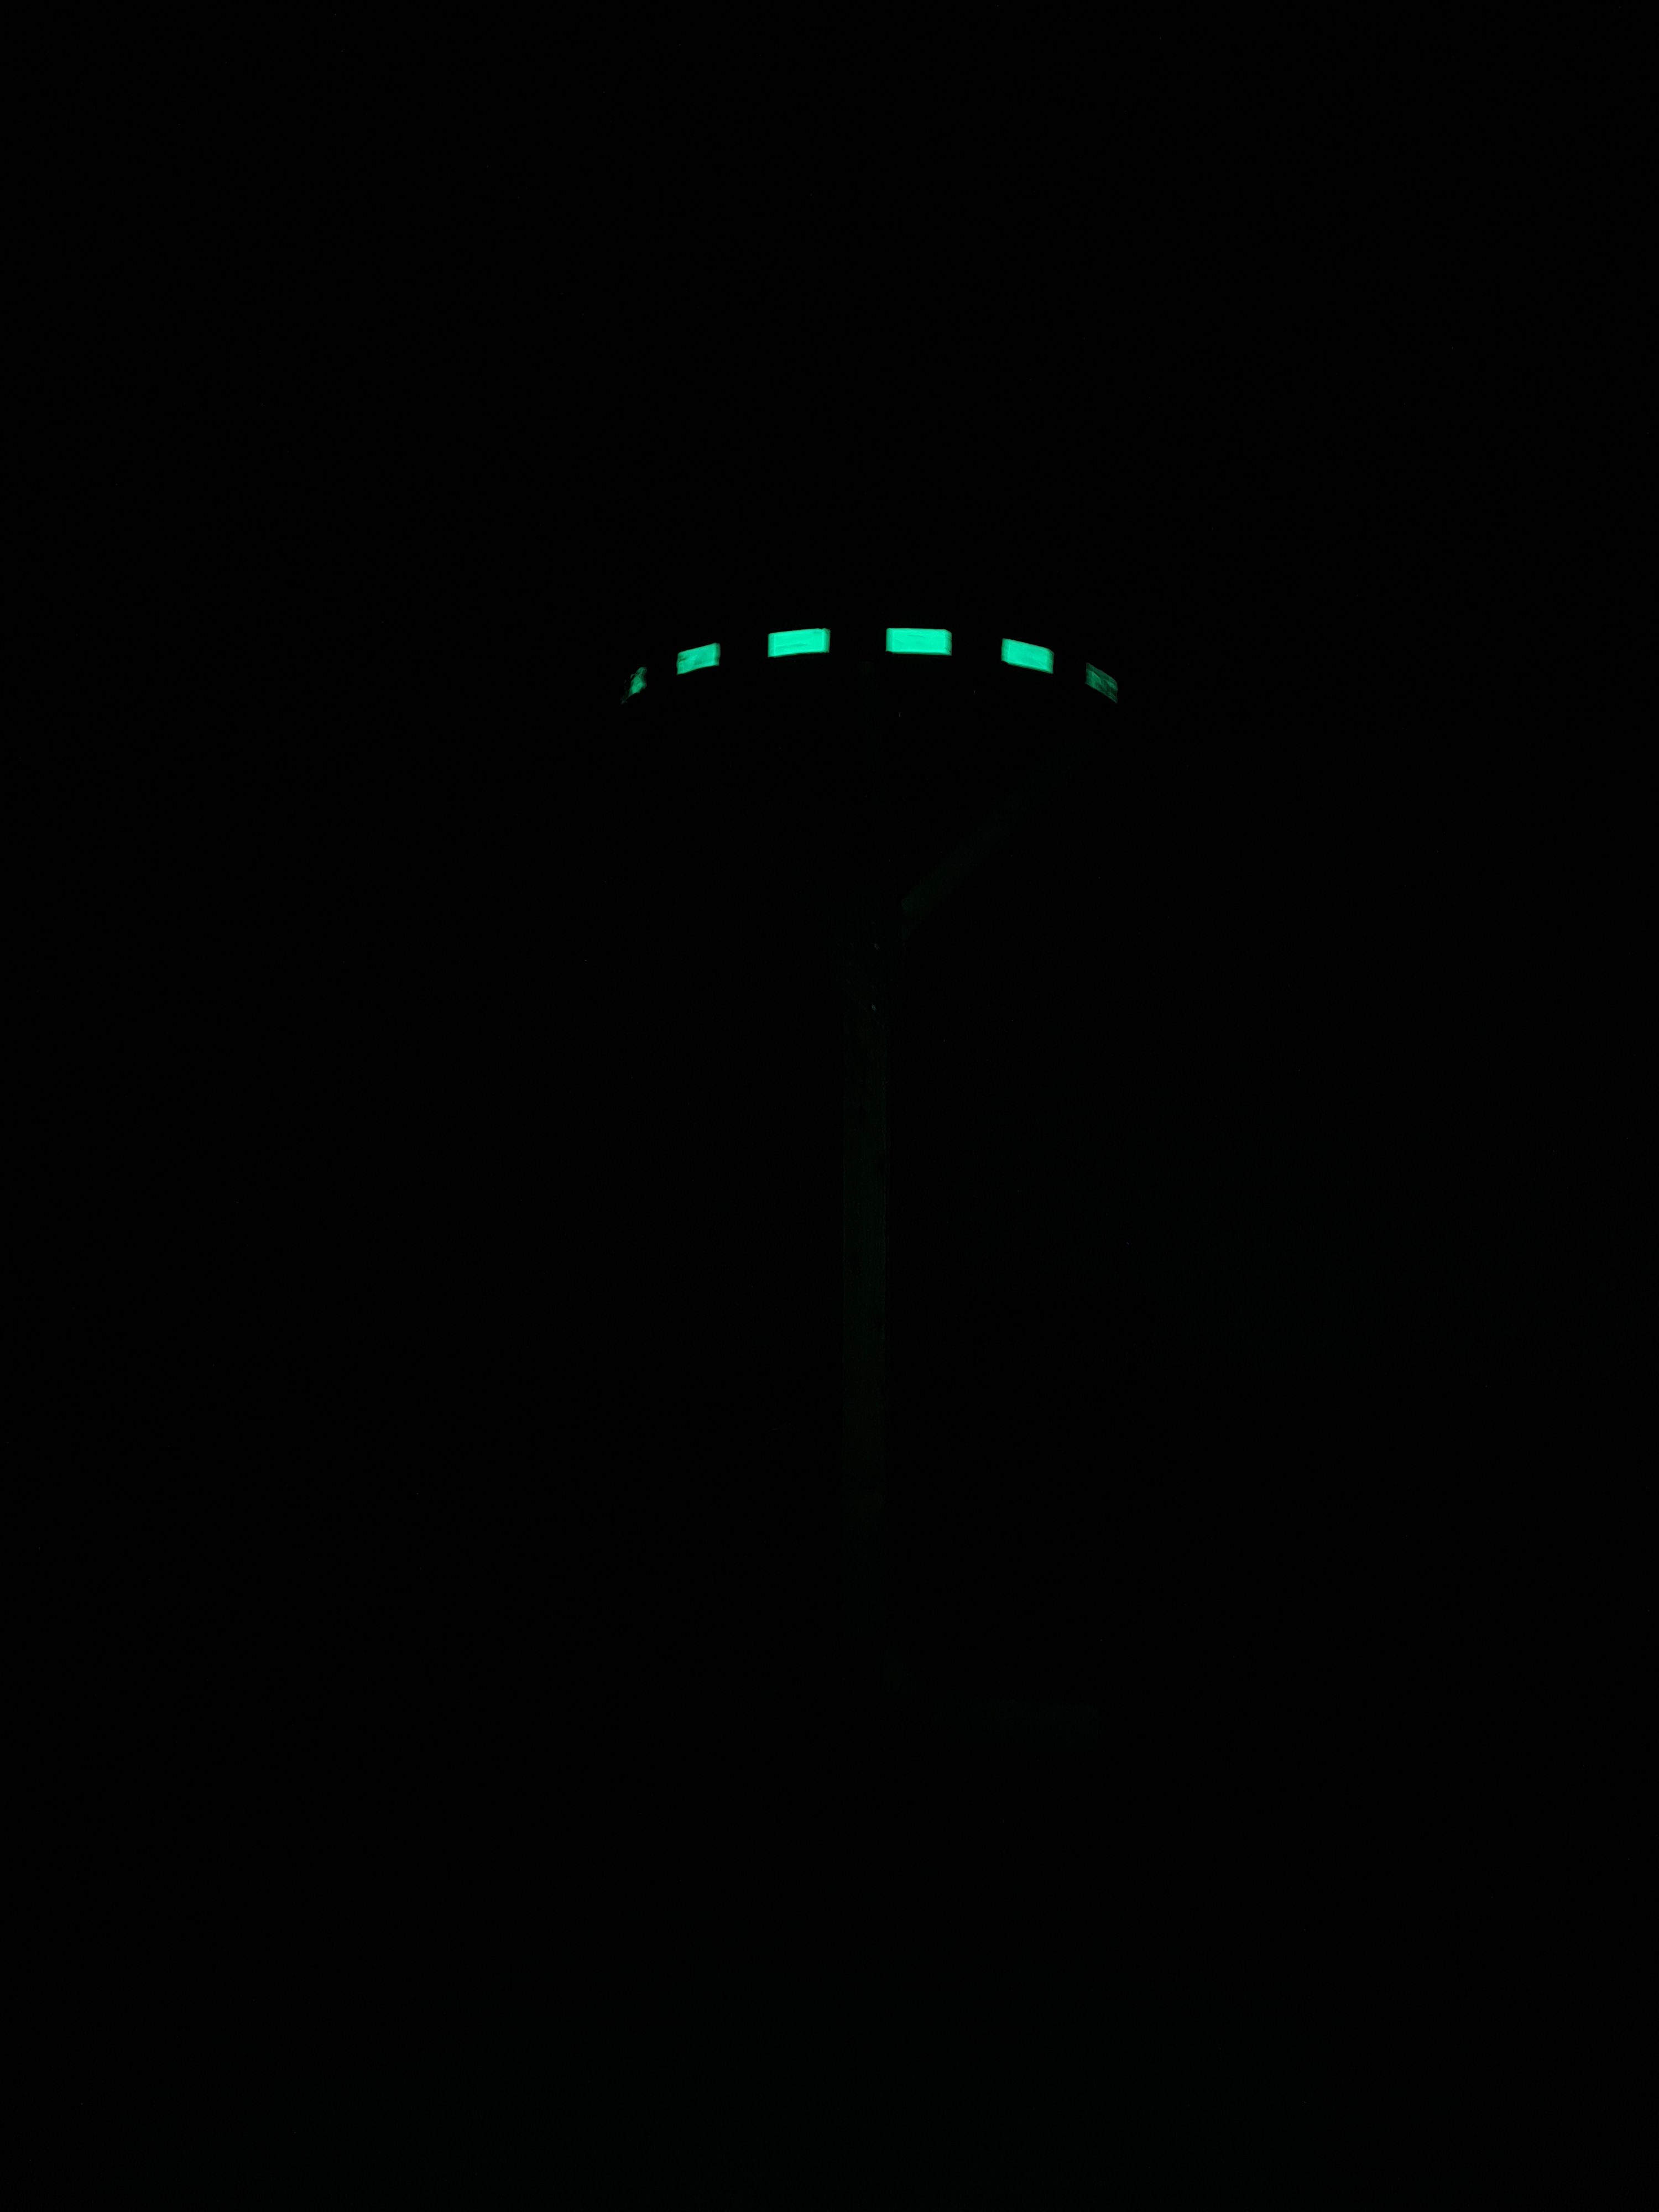hoop: (619, 620, 1133, 728)
